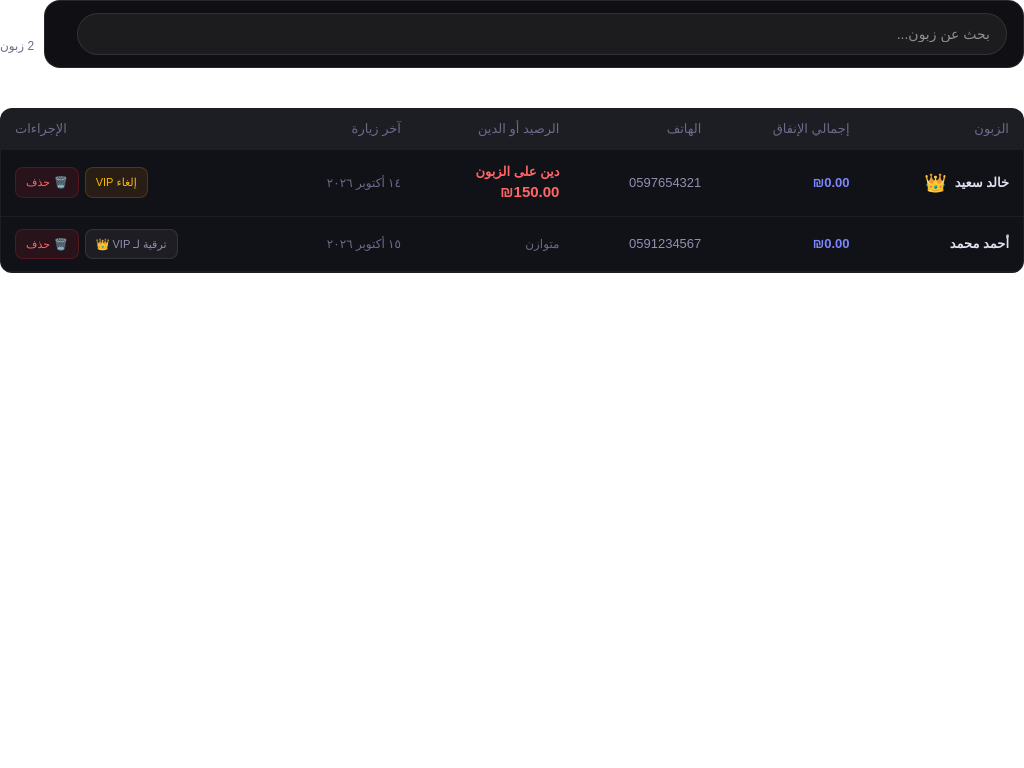
CustomersTab Component › cancels deletion when cancel button is clicked
Expected: the text "خالد سعيد" is shown, [955,175,1009,190]
Click the button "🗑️ حذف" in the row of "خالد سعيد".
click(47, 183)  # box [15,167,79,198]
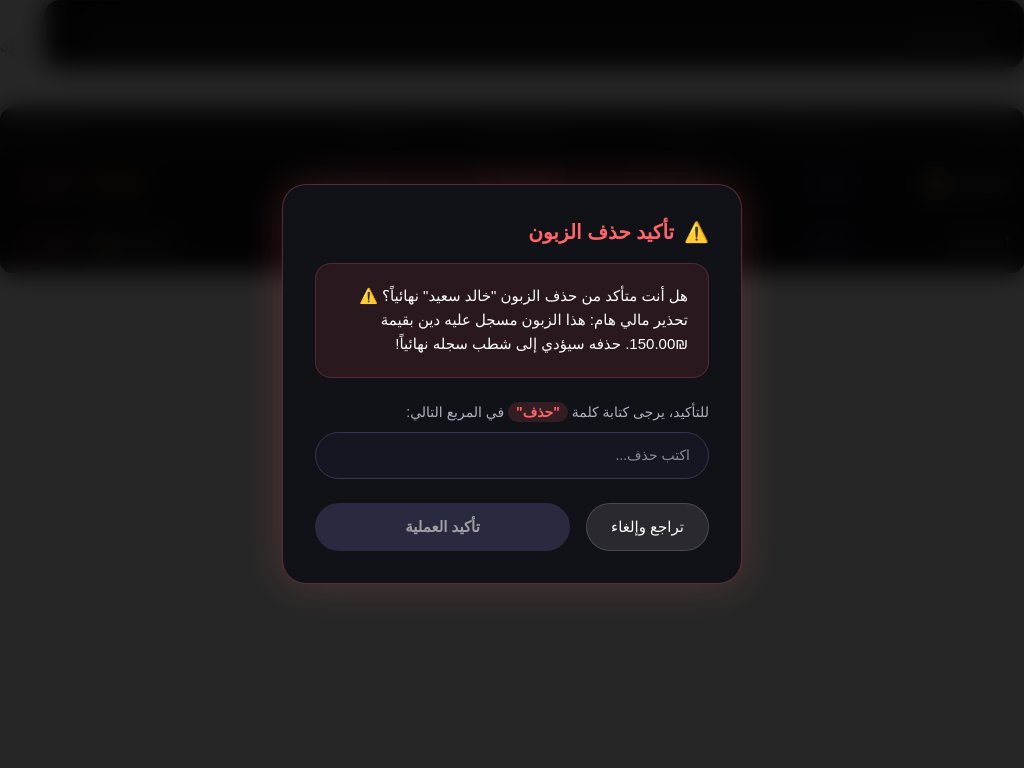
Click the button "تراجع وإلغاء".
click(648, 527)  # box [586,503,709,551]
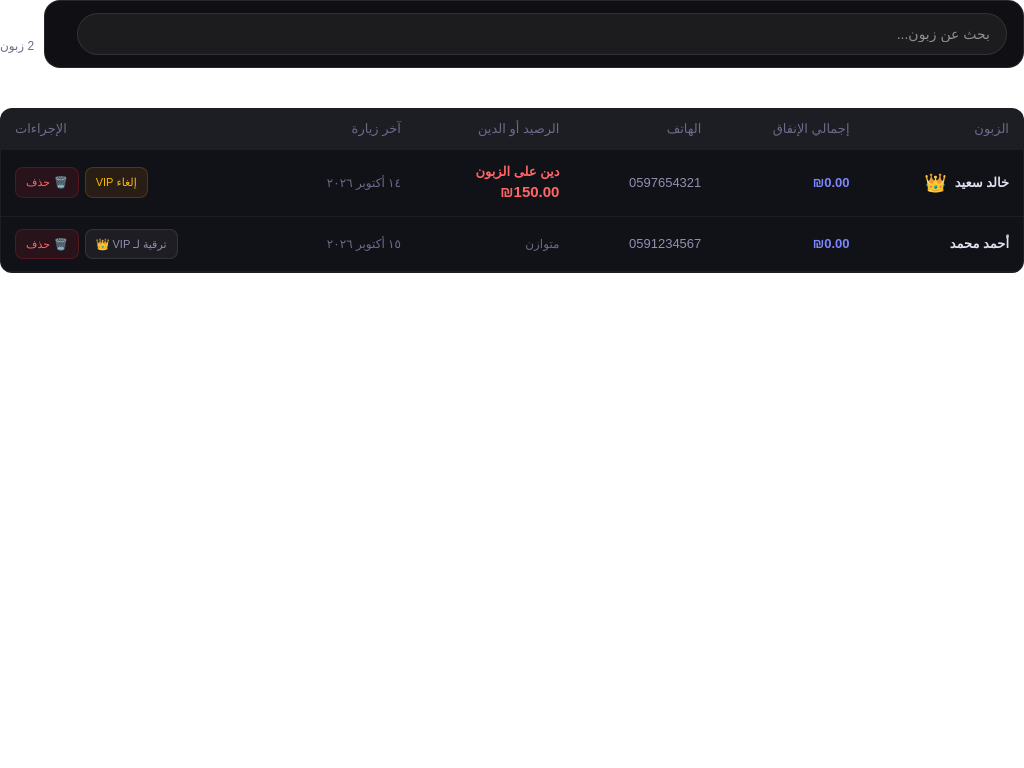
Expected: the text "خالد سعيد" is shown, [955,175,1009,190]
Now the heading "تأكيد حذف الزبون" is gone
